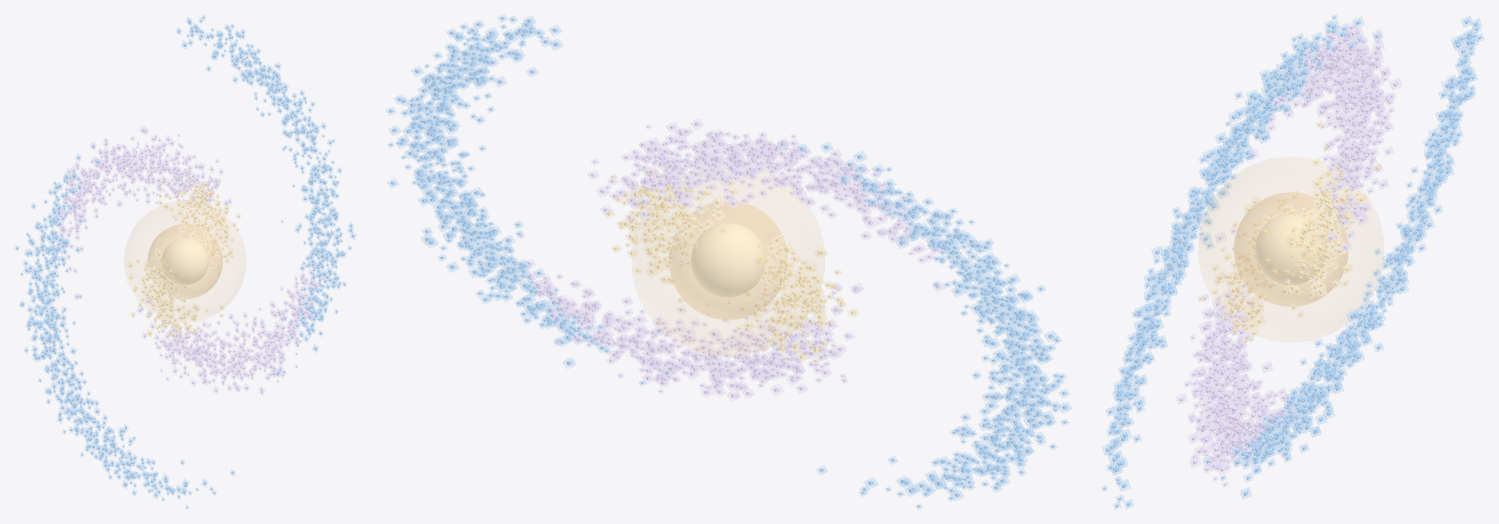
File: fx3d-k-galaxy.glb
3 views of the same model, side by side, from view 1: azimuth 30°, elevation 25°; view 2: azimuth 150°, elevation 25°; view 3: azimuth 270°, elevation 25° (orthographic). The views are drawn at different scales.
Parts seen in each view (by area): view 1: ghout, ghmid, gout, bulge2, gmid, ghcore, bulge1, gcore, bulge0; view 2: ghout, ghmid, bulge2, gout, gmid, ghcore, bulge1, gcore, bulge0; view 3: ghout, ghmid, bulge2, gout, gmid, bulge1, ghcore, gcore, bulge0.
Part boxes in pixels (x1=…): ghout: x1=14, y1=14, x2=356, y2=509; ghmid: x1=53, y1=126, x2=324, y2=395; gout: x1=16, y1=16, x2=354, y2=507; bulge2: x1=124, y1=200, x2=246, y2=322; gmid: x1=54, y1=128, x2=323, y2=393; ghcore: x1=127, y1=177, x2=240, y2=350; bulge1: x1=147, y1=224, x2=222, y2=299; gcore: x1=128, y1=178, x2=239, y2=352; bulge0: x1=162, y1=238, x2=208, y2=284; ghout: x1=386, y1=14, x2=1072, y2=509; ghmid: x1=518, y1=118, x2=944, y2=401; bulge2: x1=631, y1=164, x2=824, y2=356; gout: x1=389, y1=16, x2=1067, y2=507; gmid: x1=518, y1=122, x2=941, y2=398; ghcore: x1=604, y1=167, x2=859, y2=363; bulge1: x1=668, y1=201, x2=787, y2=319; gcore: x1=607, y1=166, x2=855, y2=362; bulge0: x1=691, y1=223, x2=765, y2=297; ghout: x1=1101, y1=14, x2=1484, y2=509; ghmid: x1=1176, y1=22, x2=1402, y2=487; bulge2: x1=1198, y1=156, x2=1383, y2=342; gout: x1=1103, y1=16, x2=1481, y2=507; gmid: x1=1179, y1=25, x2=1398, y2=485; bulge1: x1=1234, y1=192, x2=1348, y2=306; ghcore: x1=1197, y1=120, x2=1381, y2=345; gcore: x1=1199, y1=122, x2=1378, y2=345; bulge0: x1=1255, y1=213, x2=1326, y2=285.
Bounding box in the file's own units: 0.6346 × 0.6077 × 0.3737.
